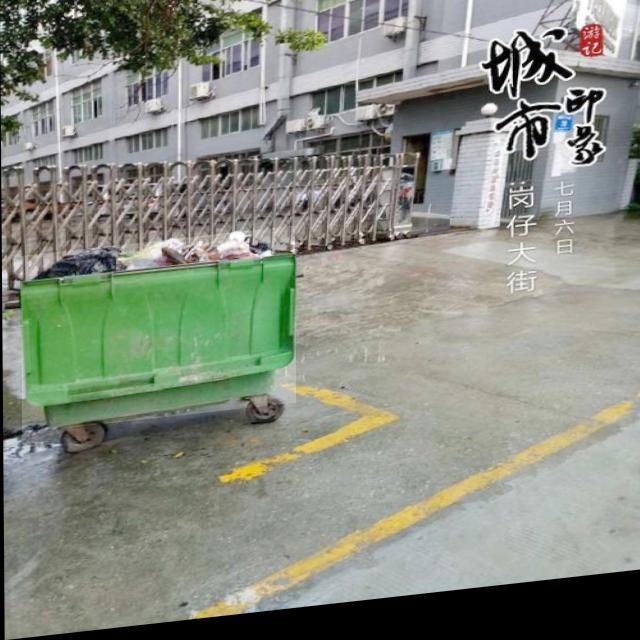overflow: (21, 232, 296, 433)
